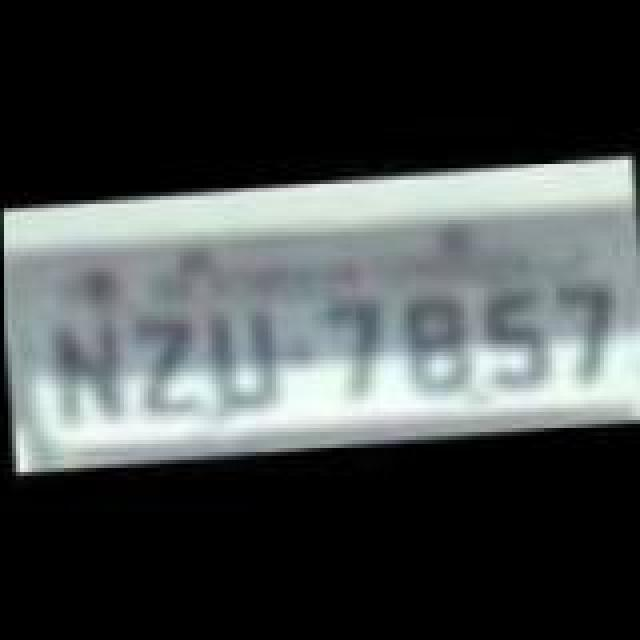5: (476, 276, 556, 392)
7: (546, 274, 622, 394), (324, 294, 396, 402)
8: (394, 282, 478, 406)
N: (44, 310, 124, 434)
U: (202, 306, 278, 422)
Z: (128, 306, 200, 414)
